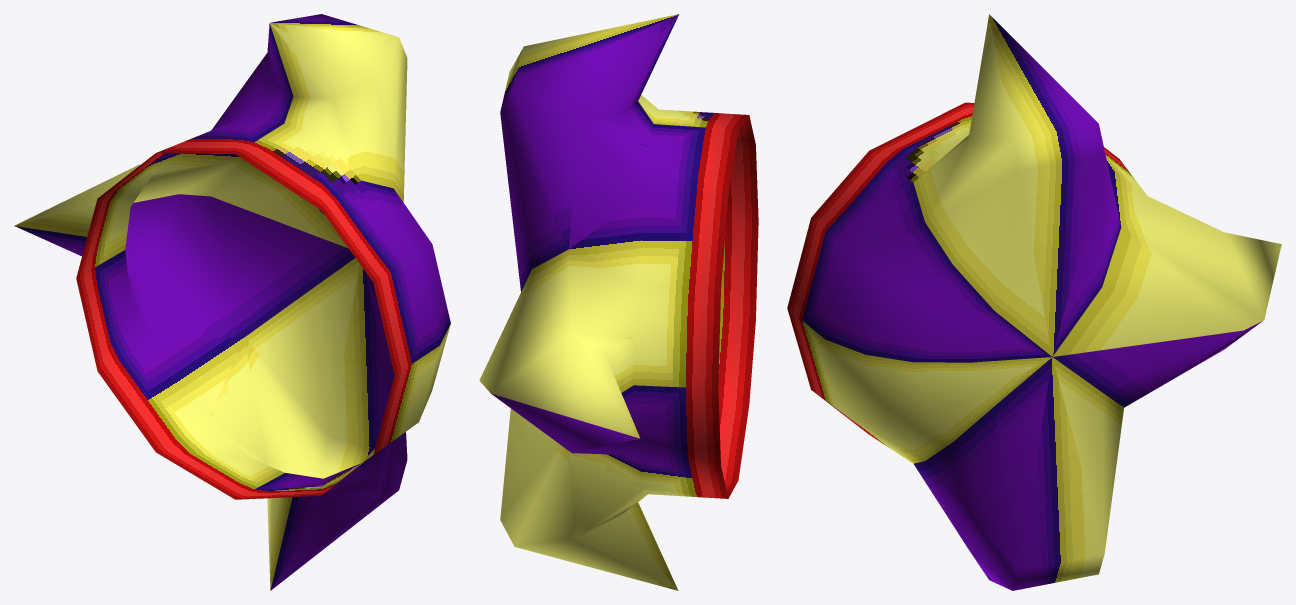
File: cap_cap_jesters.dae
3 views of the same model, side by side, from view 1: azimuth 30°, elevation 25°; view 2: azimuth 150°, elevation 25°; view 3: azimuth 270°, elevation 25° (orthographic). The views are drawn at different scales.
Visible parts, largest first — view 1: cap_cap_jesters; view 2: cap_cap_jesters; view 3: cap_cap_jesters.
Boxes of the visible parts, left/top/right/bottom form: cap_cap_jesters: left=14, top=14, right=450, bottom=590; cap_cap_jesters: left=479, top=14, right=758, bottom=590; cap_cap_jesters: left=787, top=14, right=1281, bottom=590.
Size of the model in its own units: 17.19 by 34.78 by 27.55.
1 material, 1 textured.
